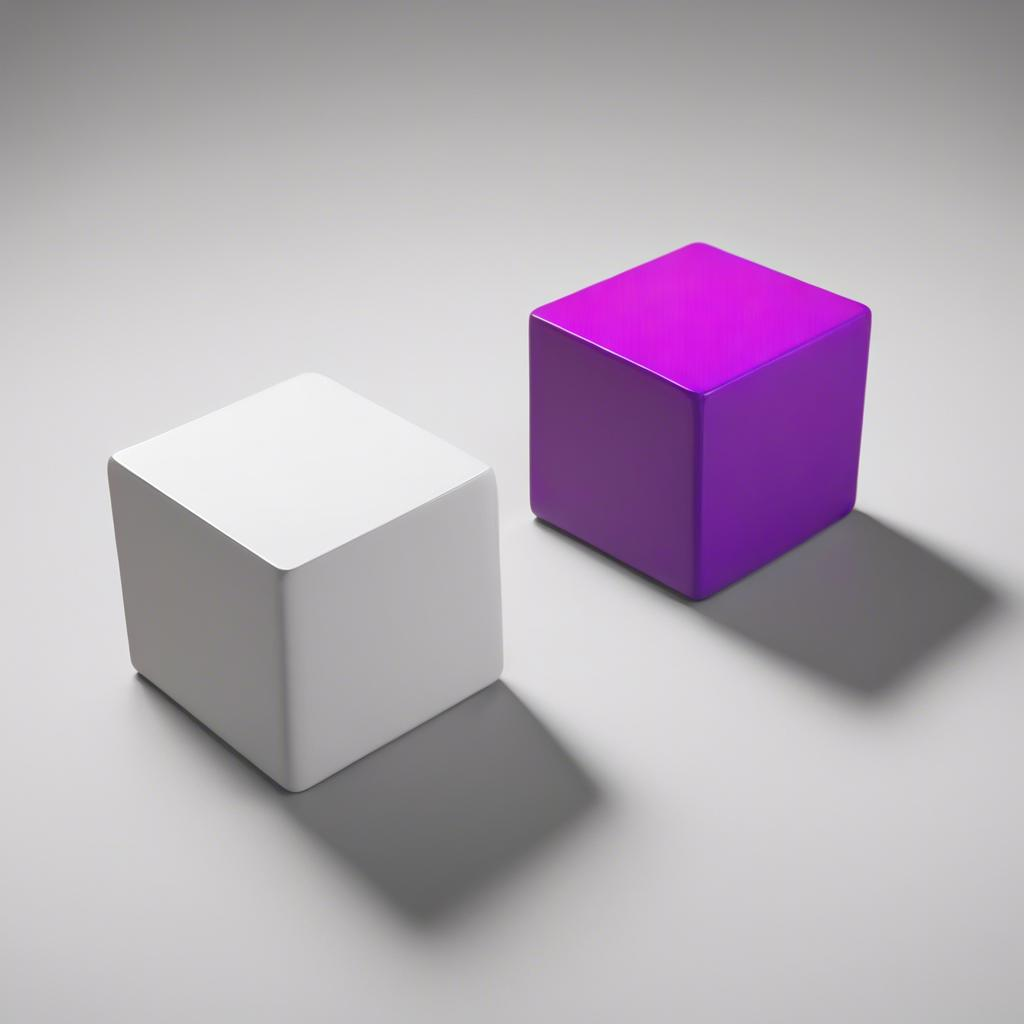cube: (106, 369, 504, 793), (527, 239, 872, 601)
